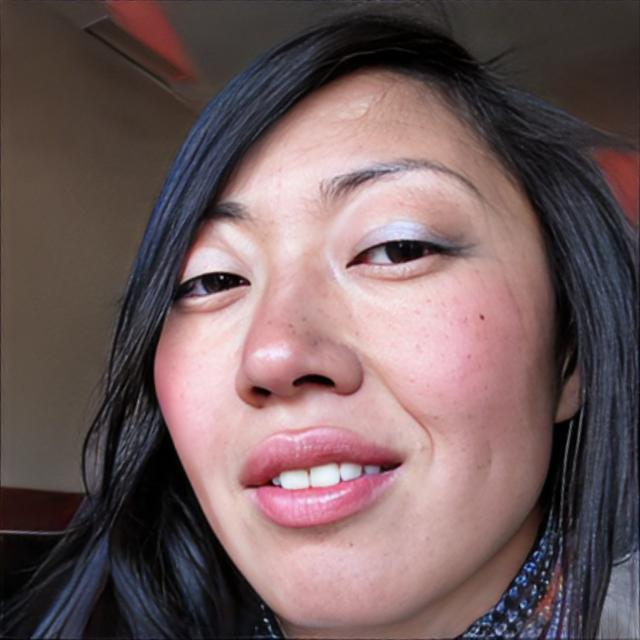content: (150, 60, 560, 636)
